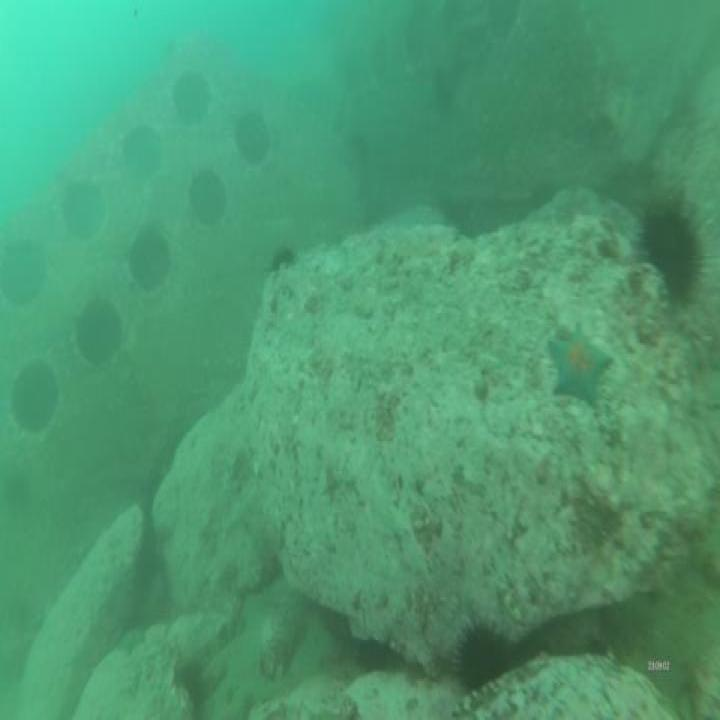echinus: (641, 196, 703, 311), (450, 615, 512, 693)
starfish: (548, 318, 615, 414)
